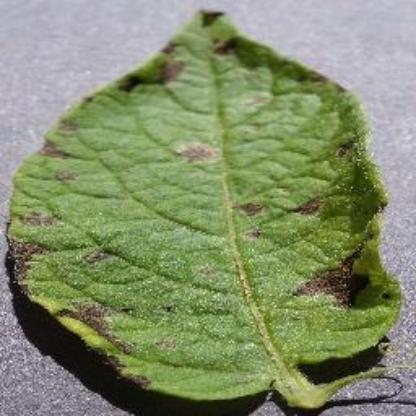Early-Blight: (7, 7, 407, 407)
